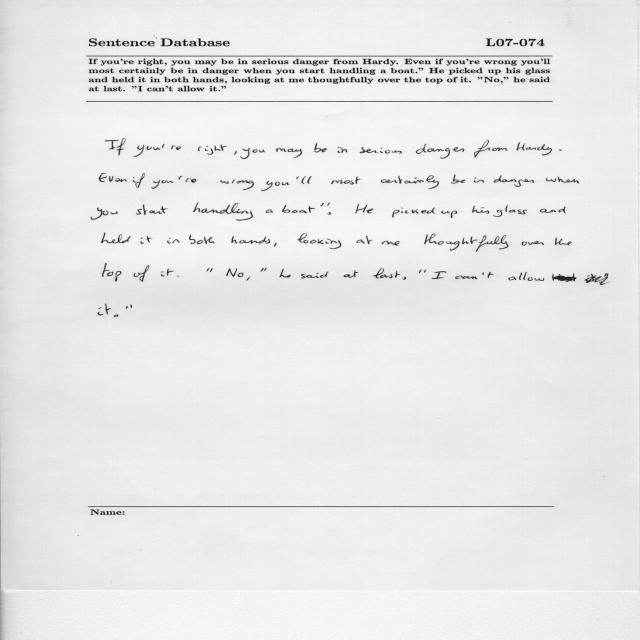word: (425, 234, 509, 252), (193, 203, 253, 221), (381, 176, 439, 189), (416, 144, 464, 159), (297, 233, 341, 249), (474, 140, 508, 157), (516, 143, 552, 156), (494, 176, 534, 187), (392, 208, 435, 218), (133, 144, 165, 157), (493, 205, 527, 217), (220, 179, 254, 190), (103, 263, 122, 282), (105, 139, 126, 156), (136, 204, 168, 215), (91, 208, 118, 220), (509, 272, 545, 281), (198, 144, 227, 155), (232, 236, 271, 244), (584, 273, 609, 285), (360, 147, 402, 154), (102, 233, 131, 243), (261, 181, 289, 191), (241, 148, 266, 159), (455, 272, 494, 279), (134, 265, 150, 282), (373, 269, 400, 279), (282, 205, 315, 213), (276, 148, 302, 158), (99, 173, 127, 182), (189, 235, 215, 244), (332, 177, 361, 185), (546, 177, 579, 184), (552, 273, 576, 282), (152, 180, 174, 189), (132, 173, 145, 188), (301, 272, 328, 279), (540, 207, 566, 214), (356, 204, 374, 213), (226, 268, 244, 277), (472, 206, 490, 214), (98, 304, 111, 315), (451, 174, 465, 184), (356, 236, 373, 244), (555, 238, 572, 246), (314, 143, 327, 153), (296, 176, 312, 184), (179, 176, 197, 183), (344, 270, 359, 278), (521, 241, 544, 246), (441, 211, 457, 218), (432, 271, 446, 279), (280, 269, 291, 278), (382, 241, 400, 246), (141, 236, 152, 244), (161, 269, 173, 276), (167, 238, 180, 244), (338, 147, 348, 153), (474, 178, 484, 183), (327, 203, 331, 215), (171, 146, 181, 150), (126, 304, 132, 309), (266, 209, 273, 213), (207, 268, 213, 272), (261, 268, 267, 272), (419, 270, 426, 273), (246, 277, 250, 281), (234, 151, 237, 155), (320, 203, 324, 206), (274, 243, 277, 247), (114, 315, 118, 318), (403, 277, 406, 280), (558, 149, 562, 151), (177, 276, 179, 277)
